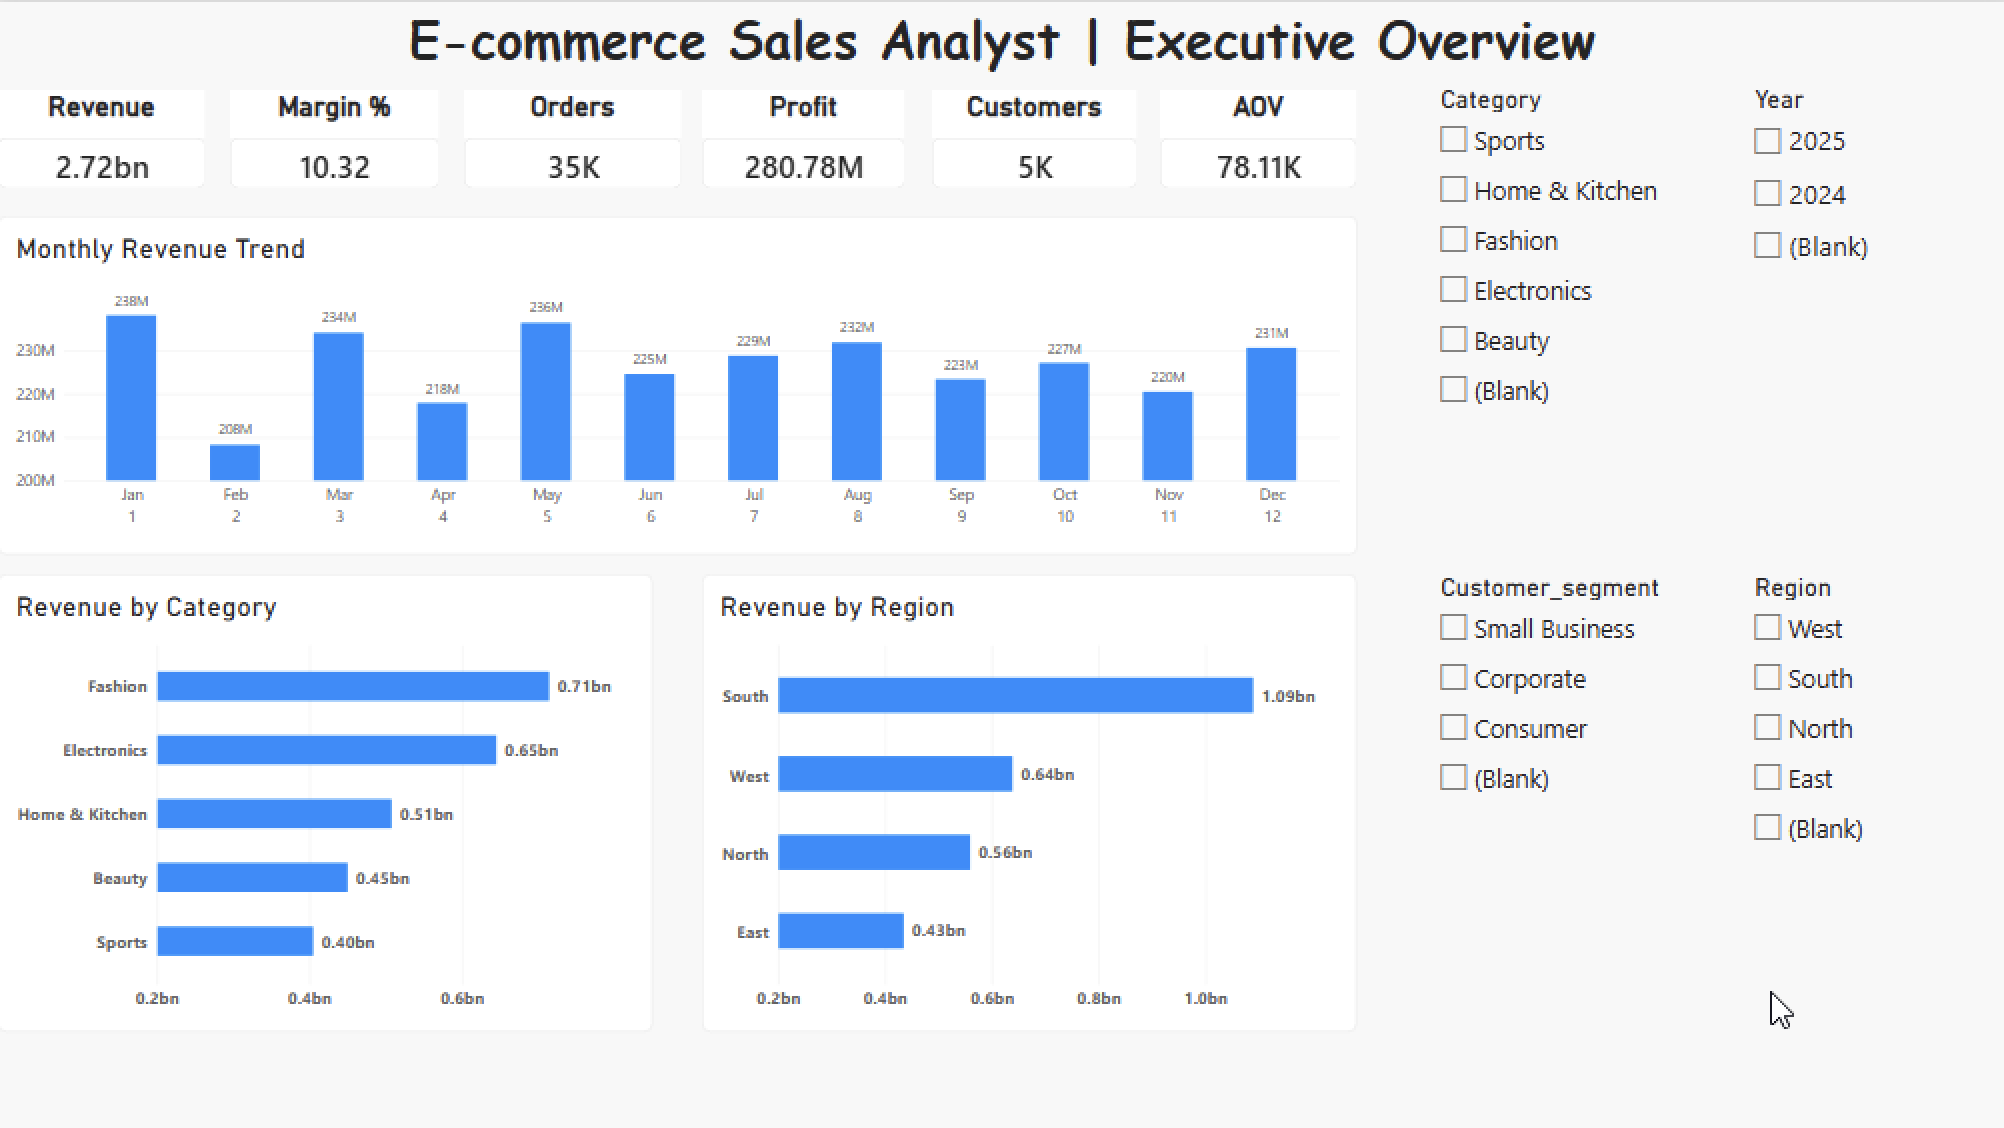

The page's visual inventory and layout, read from the dashboard file:
{"tool":"powerbi","page":{"name":"Executive Overview","canvas":[1920,1080],"ordinal":0},"visuals":[{"type":"cardVisual","title":"Revenue","fields":{"Data":["Table1.Total_Sales"]},"box":[0,84,198,94],"z":0},{"type":"cardVisual","title":"Orders","fields":{"Data":["Table1.Total_Orders"]},"box":[446,84,208,94],"z":1000},{"type":"cardVisual","title":"Customers ","fields":{"Data":["Table1.Total_customers"]},"box":[894,84,196,94],"z":2000},{"type":"cardVisual","title":"AOV ","fields":{"Data":["Table1.Average_Order_Value"]},"box":[1112,84,188,94],"z":3000},{"type":"cardVisual","title":"Profit ","fields":{"Data":["Table1.Total_Profit"]},"box":[674,84,194,94],"z":4000},{"type":"cardVisual","title":"Margin %","fields":{"Data":["Table1.Profit Margin %"]},"box":[222,84,200,94],"z":5000},{"type":"textbox","box":[0,0,1920,78.4],"z":6000},{"type":"columnChart","title":"Monthly Revenue Trend","fields":{"Y":["Sum(Table1.Gross Sales)"],"Category":["Date_Table.Month_number","Date_Table.Month","Date_Table.Date"]},"box":[0,204,1300,324],"z":7000},{"type":"clusteredBarChart","title":"Revenue by Category","fields":{"Category":["Products_Raw.category"],"Y":["Sum(Table1.Gross Sales)"]},"box":[0,546,626,438],"z":8000},{"type":"clusteredBarChart","title":"Revenue by Region","fields":{"Category":["Stores_Raw.region"],"Y":["Sum(Table1.Gross Sales)"]},"box":[674,546,626,438],"z":9000},{"type":"slicer","fields":{"Values":["Stores_Raw.region"]},"box":[1671.4,545,248.6,328.9],"z":10000},{"type":"slicer","fields":{"Values":["Products_Raw.category"]},"box":[1371.2,78.4,248.6,319.4],"z":11000},{"type":"slicer","fields":{"Values":["Customers_Raw.customer_segment"]},"box":[1371.2,545,248.6,328.9],"z":12000},{"type":"slicer","fields":{"Values":["Date_Table.Year"]},"box":[1671.4,78.4,248.6,191.2],"z":13000}]}

Visuals, with their boxes in screenshot pixels (x1, y1, x2, y2), scaled from the page's 1920x1080 canvas onto the 2004x1128 screenshot:
"Revenue" cardVisual: <region>0, 88, 207, 186</region>
"Orders" cardVisual: <region>466, 88, 683, 186</region>
"Customers " cardVisual: <region>933, 88, 1138, 186</region>
"AOV " cardVisual: <region>1161, 88, 1357, 186</region>
"Profit " cardVisual: <region>703, 88, 906, 186</region>
"Margin %" cardVisual: <region>232, 88, 440, 186</region>
textbox: <region>0, 0, 2003, 82</region>
"Monthly Revenue Trend" columnChart: <region>0, 213, 1357, 551</region>
"Revenue by Category" clusteredBarChart: <region>0, 570, 653, 1028</region>
"Revenue by Region" clusteredBarChart: <region>703, 570, 1357, 1028</region>
slicer - Stores_Raw.region: <region>1745, 569, 2003, 913</region>
slicer - Products_Raw.category: <region>1431, 82, 1691, 415</region>
slicer - Customers_Raw.customer_segment: <region>1431, 569, 1691, 913</region>
slicer - Date_Table.Year: <region>1745, 82, 2003, 282</region>
